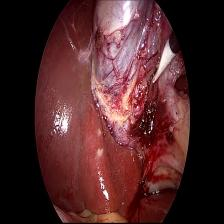Hook: (150, 38, 177, 88)
